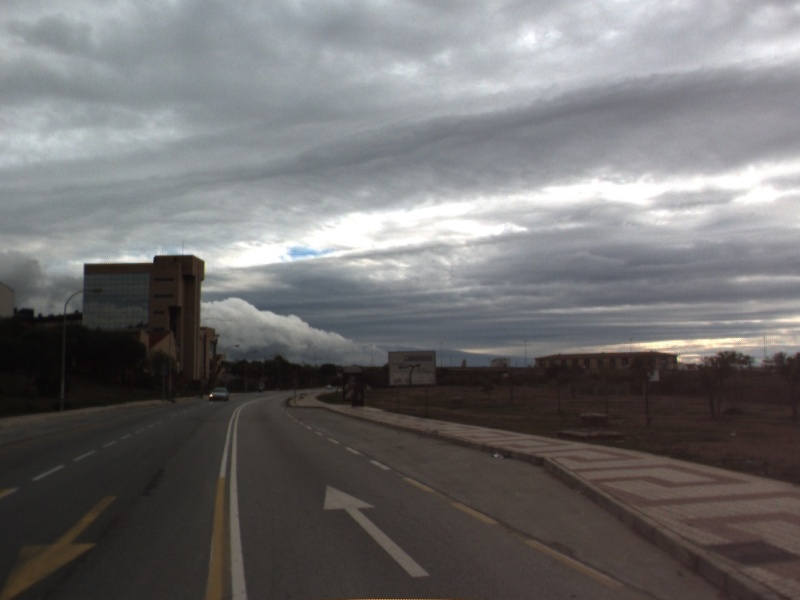STRAIGHT: (320, 480, 435, 580)
